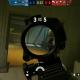Character: (46, 34, 61, 58)
Head: (52, 34, 56, 42)
